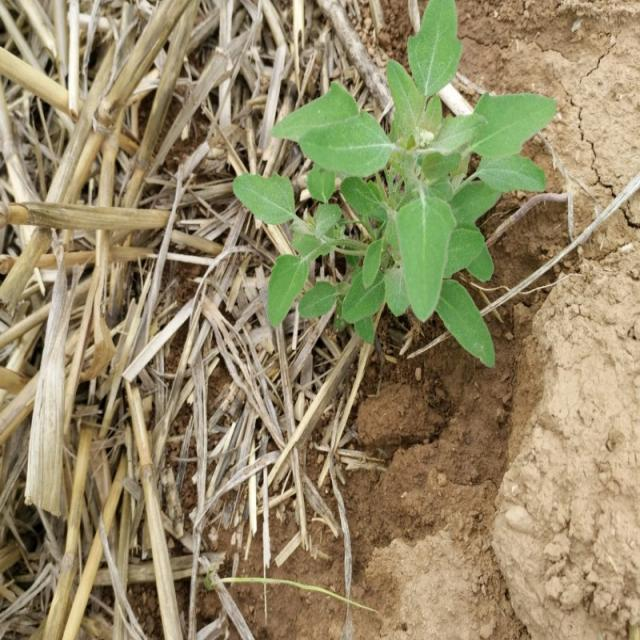ca: (265, 4, 553, 367)
